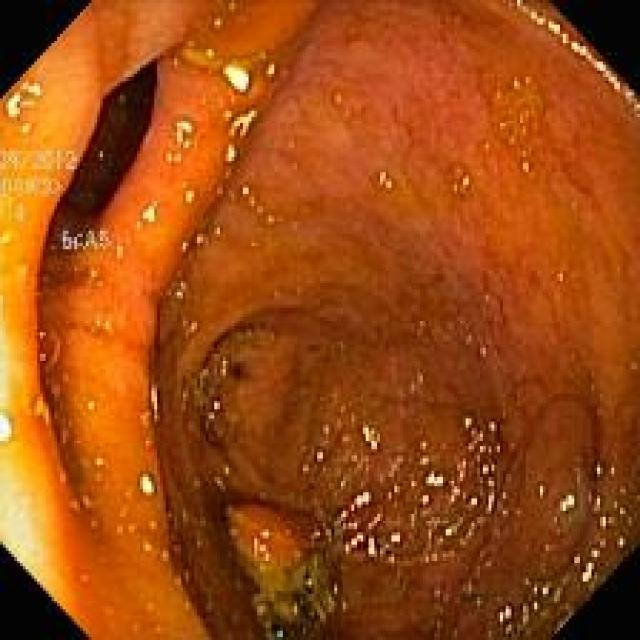ulcerative-colitis-grade-1: (150, 3, 640, 638)
